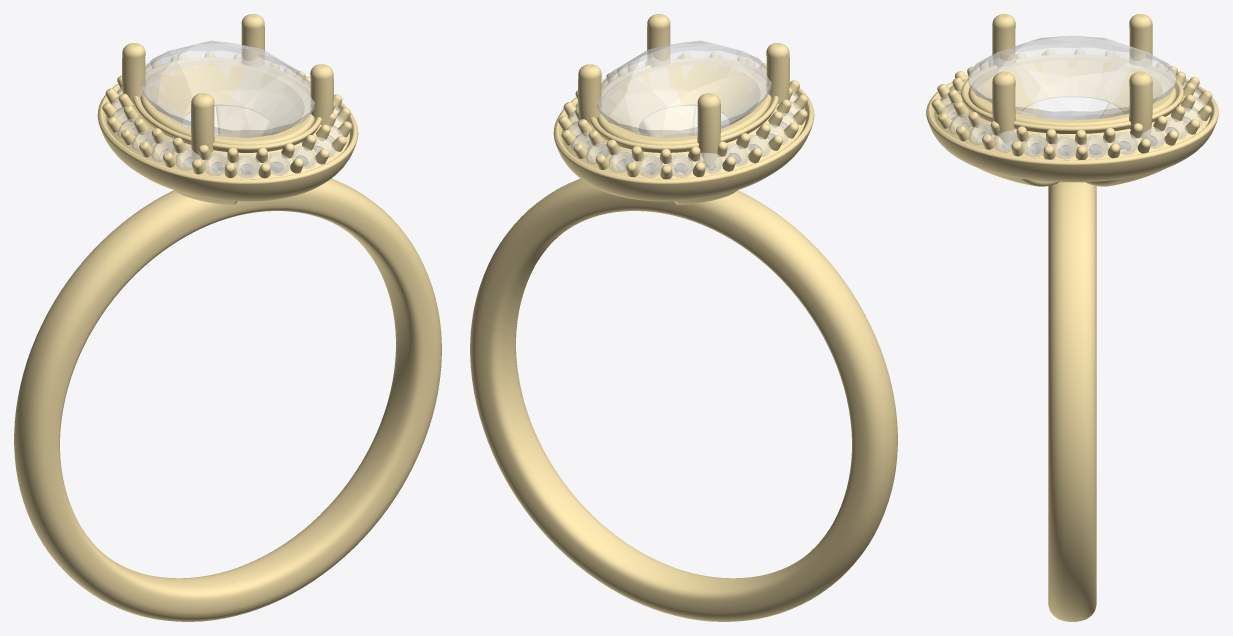
3 views of the same model, side by side, from view 1: azimuth 30°, elevation 25°; view 2: azimuth 150°, elevation 25°; view 3: azimuth 270°, elevation 25° (orthographic).
Parts seen in each view (by area): view 1: NNObj_24, NNObj_25, NNObj_26, NNObj_23, NNObj_35, NNObj_34, NNObj_28, NNObj_27, NNObj_29, NNObj_30; view 2: NNObj_24, NNObj_25, NNObj_23, NNObj_26, NNObj_35, NNObj_29, NNObj_31, NNObj_28, NNObj_30, NNObj_27; view 3: NNObj_25, NNObj_26, NNObj_23, NNObj_35, NNObj_27, NNObj_30, NNObj_28, NNObj_29, NNObj_6, NNObj_5, NNObj_7, NNObj_4 (+1 smaller).
Part boxes in pixels (<box>): NNObj_24: <box>14,190,240,621</box>; NNObj_25: <box>219,178,441,615</box>; NNObj_26: <box>97,58,358,201</box>; NNObj_23: <box>140,40,314,137</box>; NNObj_35: <box>140,61,314,145</box>; NNObj_34: <box>216,106,272,137</box>; NNObj_28: <box>191,93,214,162</box>; NNObj_27: <box>310,64,333,125</box>; NNObj_29: <box>122,43,145,103</box>; NNObj_30: <box>241,14,264,67</box>; NNObj_24: <box>671,190,897,621</box>; NNObj_25: <box>470,178,692,615</box>; NNObj_23: <box>597,40,771,137</box>; NNObj_26: <box>553,58,814,201</box>; NNObj_35: <box>597,61,771,145</box>; NNObj_29: <box>697,93,720,168</box>; NNObj_31: <box>639,106,695,137</box>; NNObj_28: <box>766,43,789,104</box>; NNObj_30: <box>578,64,601,124</box>; NNObj_27: <box>647,14,670,67</box>; NNObj_25: <box>1048,182,1096,621</box>; NNObj_26: <box>926,54,1218,182</box>; NNObj_23: <box>968,35,1176,120</box>; NNObj_35: <box>968,57,1176,126</box>; NNObj_27: <box>992,71,1015,147</box>; NNObj_30: <box>1129,71,1152,139</box>; NNObj_28: <box>992,14,1015,67</box>; NNObj_29: <box>1129,14,1152,67</box>; NNObj_6: <box>1052,135,1079,159</box>; NNObj_5: <box>1082,135,1109,158</box>; NNObj_7: <box>1021,134,1048,157</box>; NNObj_4: <box>1112,132,1138,154</box>.
Bounding box in the file's own units: 0.0207 × 0.0264 × 0.0126.
